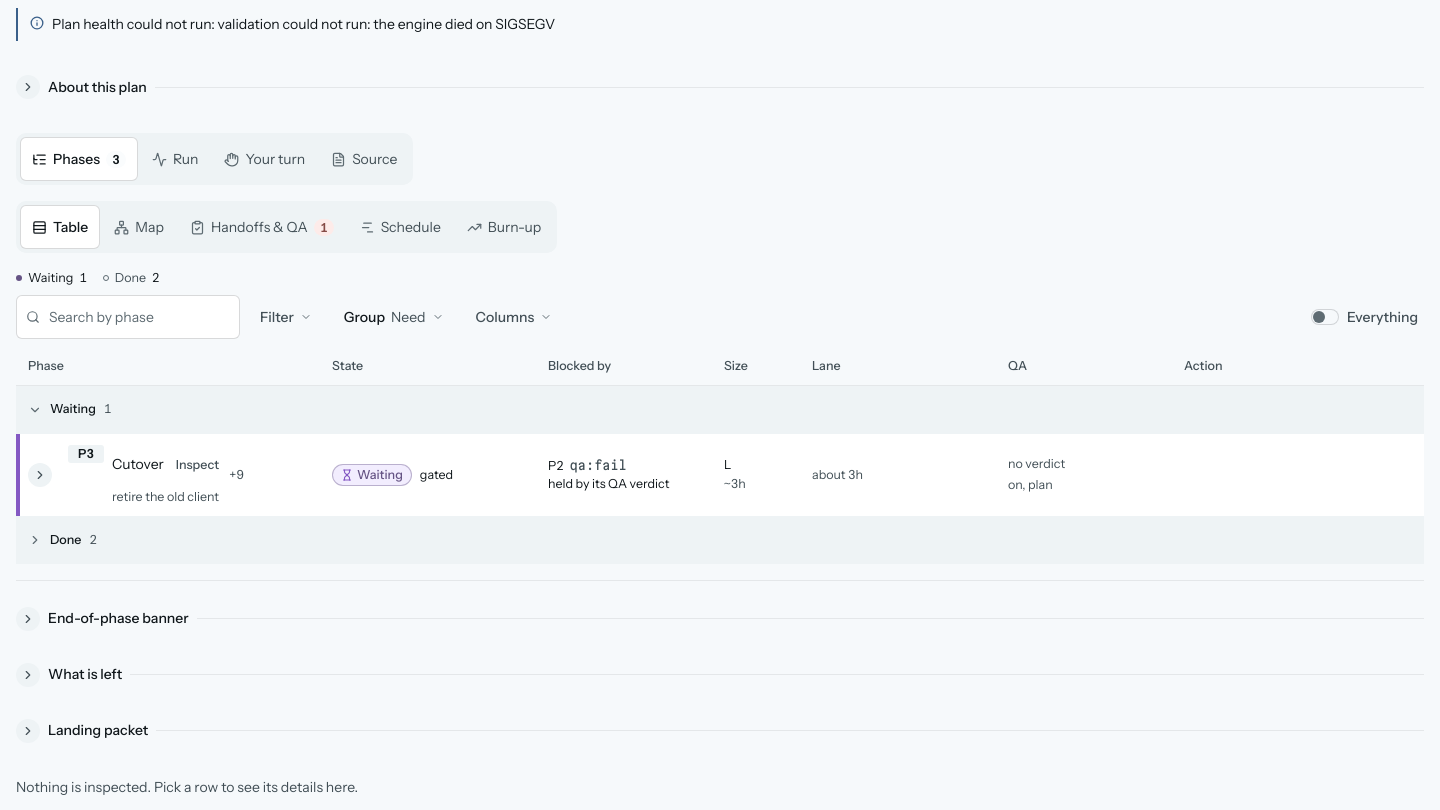
Test: the inspector — the run’s record of a phase, in eight sections › says a phase this run never boarded has no record, rather than eight empty sections
(page scrolled)
Expected: the table named "Phases" is shown, [16,347,1424,564]
Step 1. Click the button with aria-label "Inspect phase 3" → (197, 466), box [172,444,223,488]
(page scrolled)
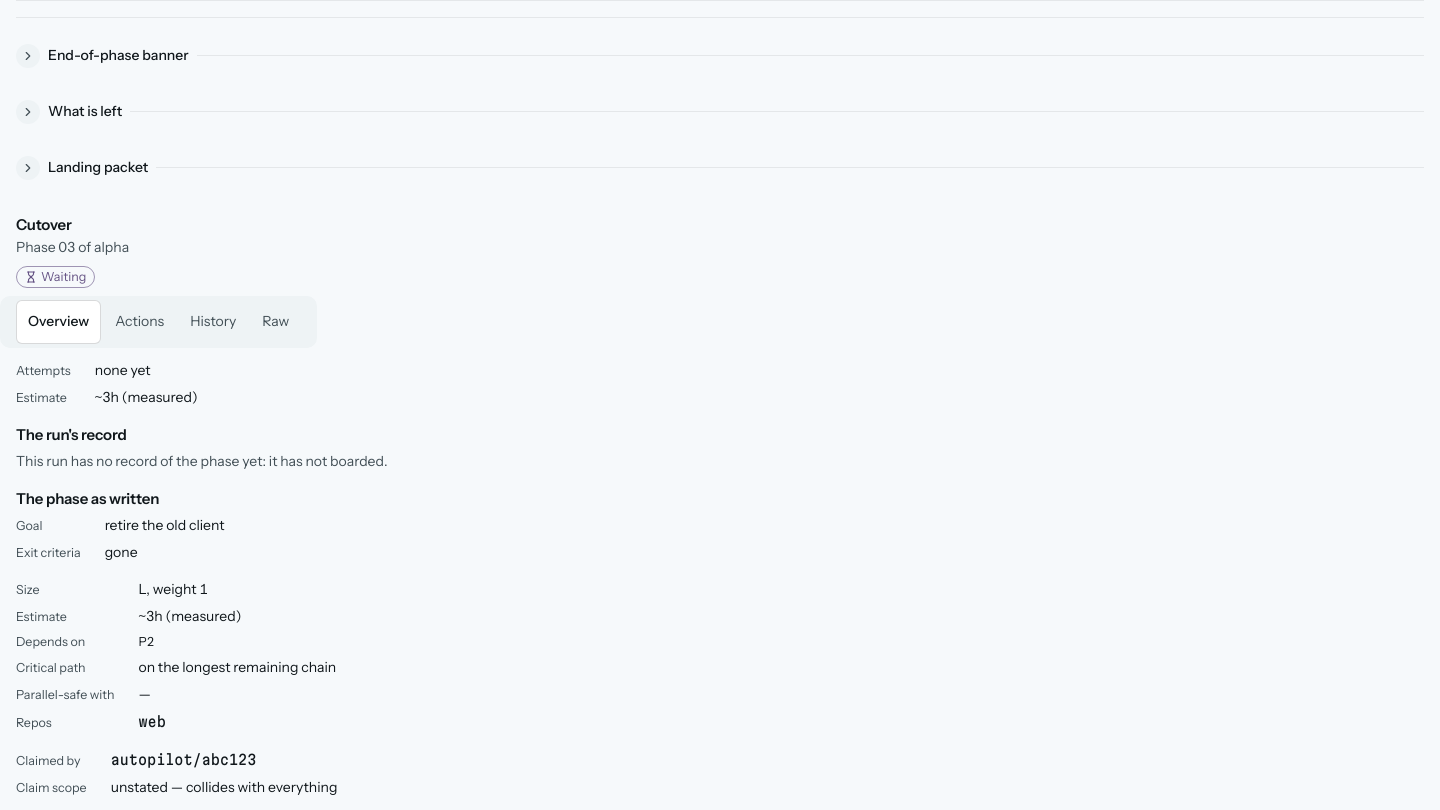
Expected: the text "This run has no record of the phase yet: it has not boarded." is shown, [16,452,388,470]
